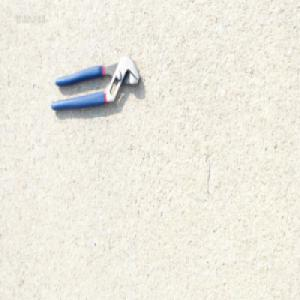Pliers: (50, 54, 141, 113)
